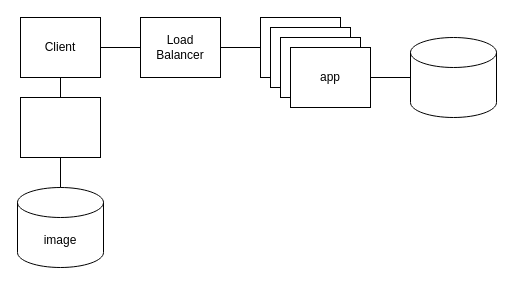
The diagram is 514 pixels wide and 285 high, and some of its shapes have lost their labels. Each missing label, with the centre of its shape:
CDN: the point at 60,127
user_info recipe_info: the point at 453,77
